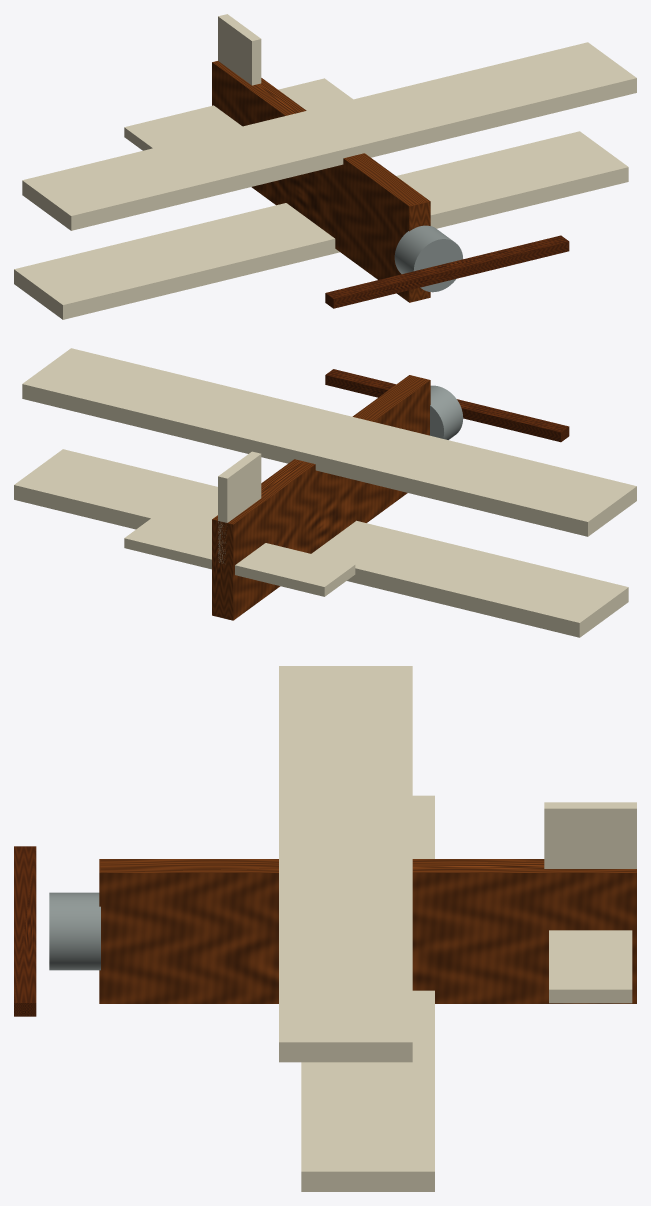
The model's file is flyer.glb.
3 views of the same model, one above another, from view 1: azimuth 30°, elevation 25°; view 2: azimuth 150°, elevation 25°; view 3: azimuth 270°, elevation 25° (orthographic). The views are drawn at different scales.
Size of the model in its own units: 4.8 by 1.18 by 3.36.
4 materials, 2 textured.
